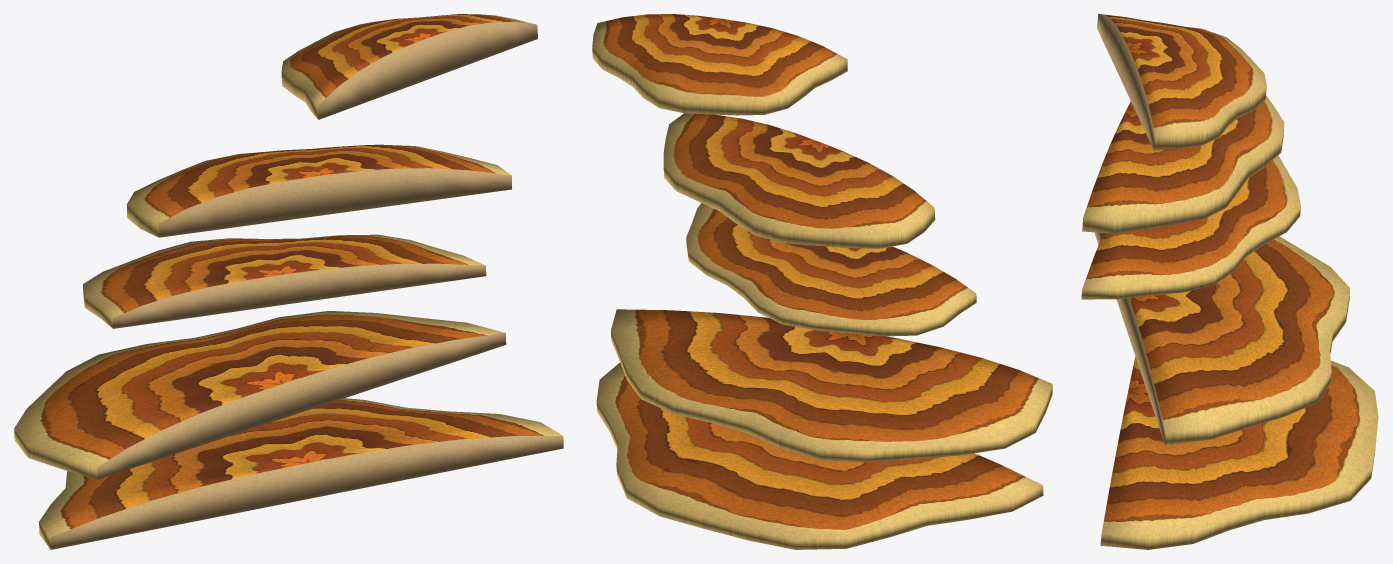
File: bracket_fungus_v02.fbx
The picture shows the model from 3 angles, left to right: view 1: azimuth 30°, elevation 25°; view 2: azimuth 150°, elevation 25°; view 3: azimuth 270°, elevation 25°; orthographic projection. The views are drawn at different scales.
Visible parts, largest first — view 1: bracket_fungus_v02; view 2: bracket_fungus_v02; view 3: bracket_fungus_v02.
Part boxes in pixels (x1,y1,x2,y2): bracket_fungus_v02: [14, 14, 563, 549]; bracket_fungus_v02: [592, 14, 1052, 549]; bracket_fungus_v02: [1081, 14, 1378, 549].
Bounding box in the file's own units: 21.97 × 11.22 × 18.99.
2 materials, 2 textured.
